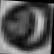correct: (0, 0, 54, 52)
